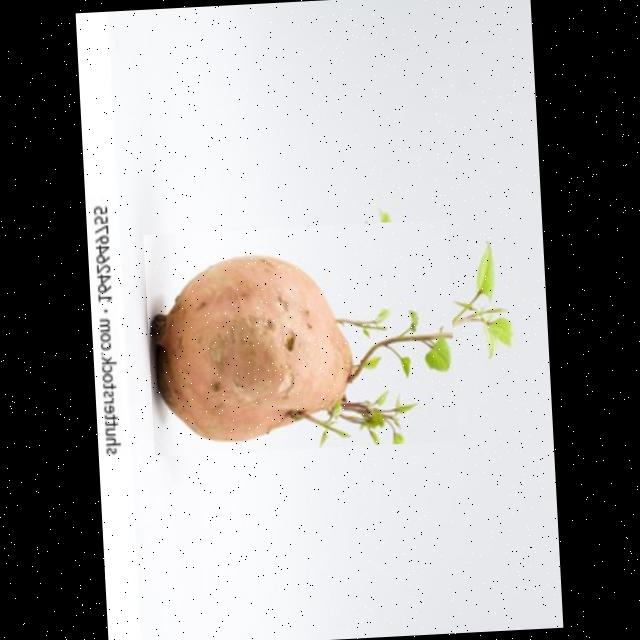Sprouted potato: (144, 218, 458, 456)
